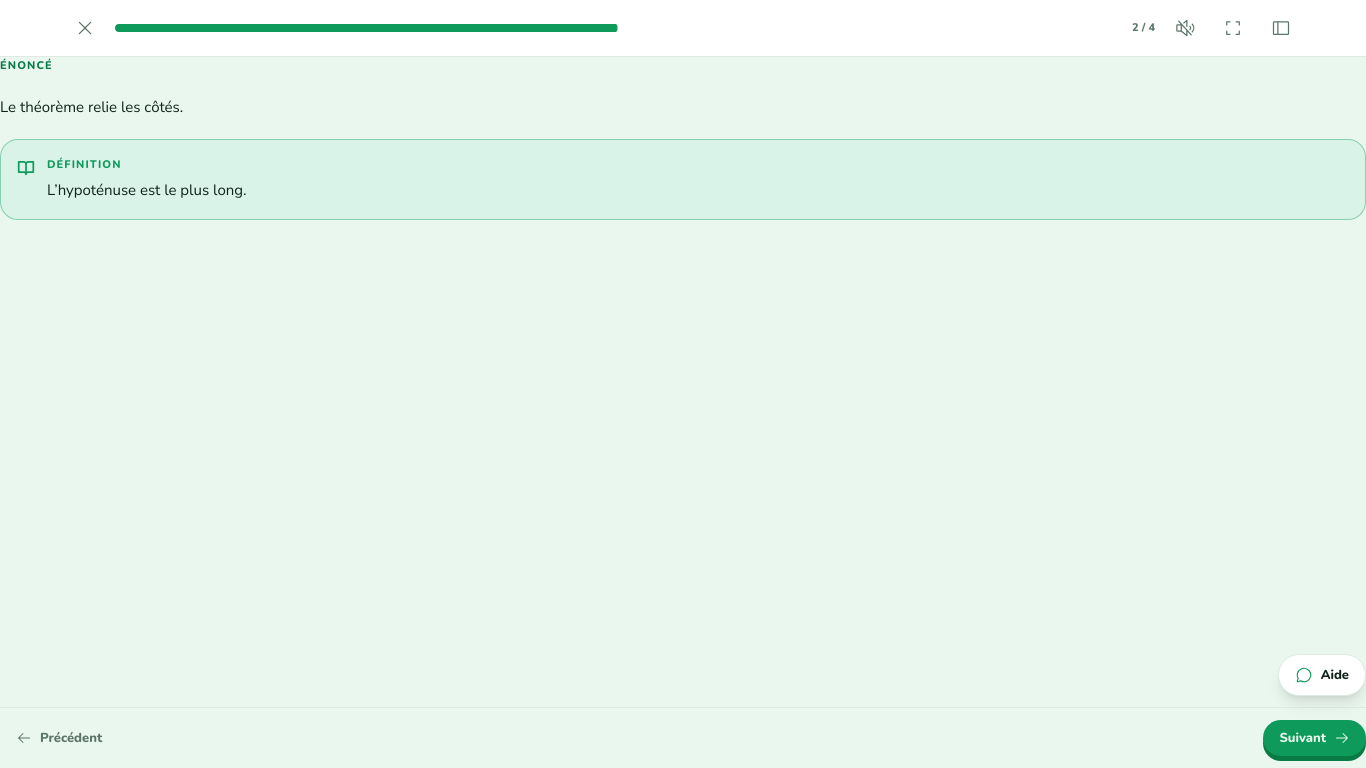
Scenario: interactive mode — help drawer focus (#250) › gives focus back to the button that opened it
Click the button "Aide". click: (1322, 675)
box: x1=1278 y1=654 x2=1365 y2=696
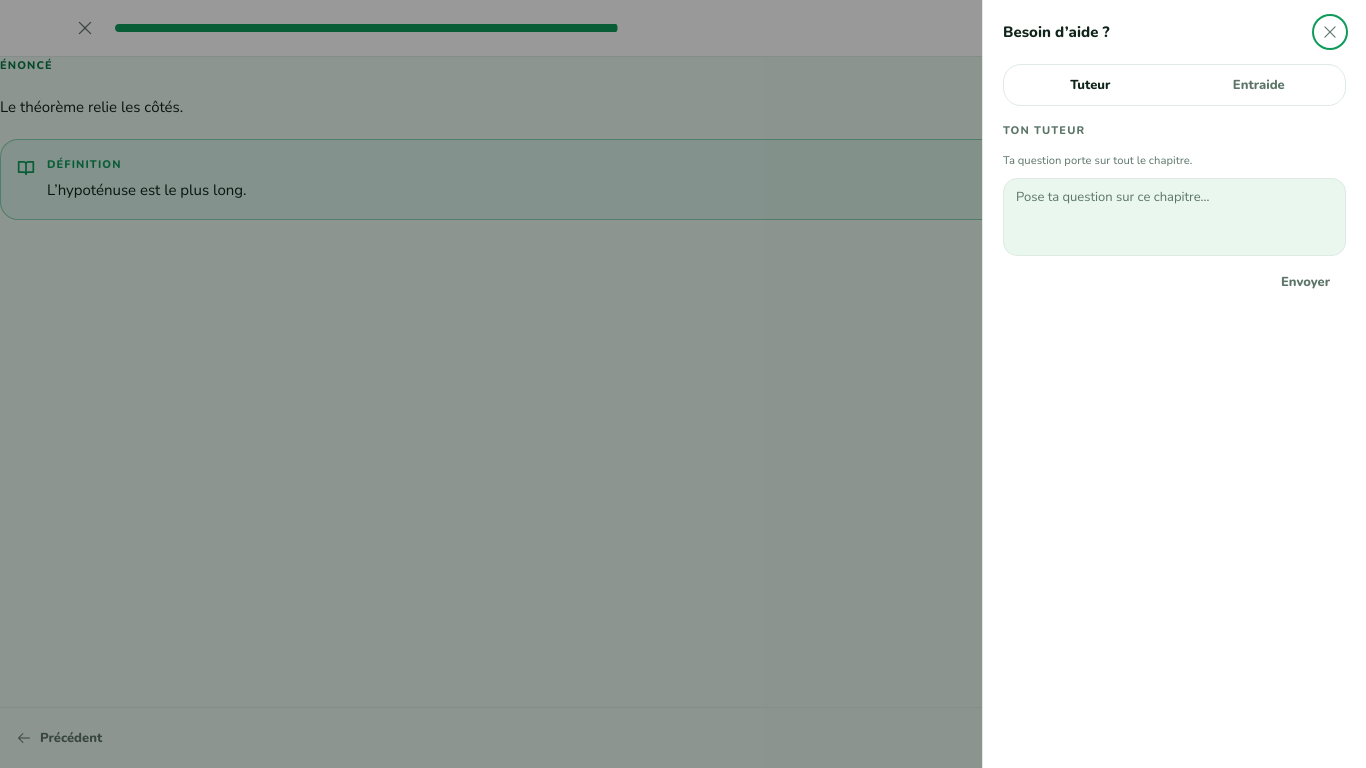
Check: the dialog is shown, box x1=982 y1=0 x2=1365 y2=767
Click the button named "Fermer". click: (1330, 32)
box: x1=1314 y1=16 x2=1346 y2=48
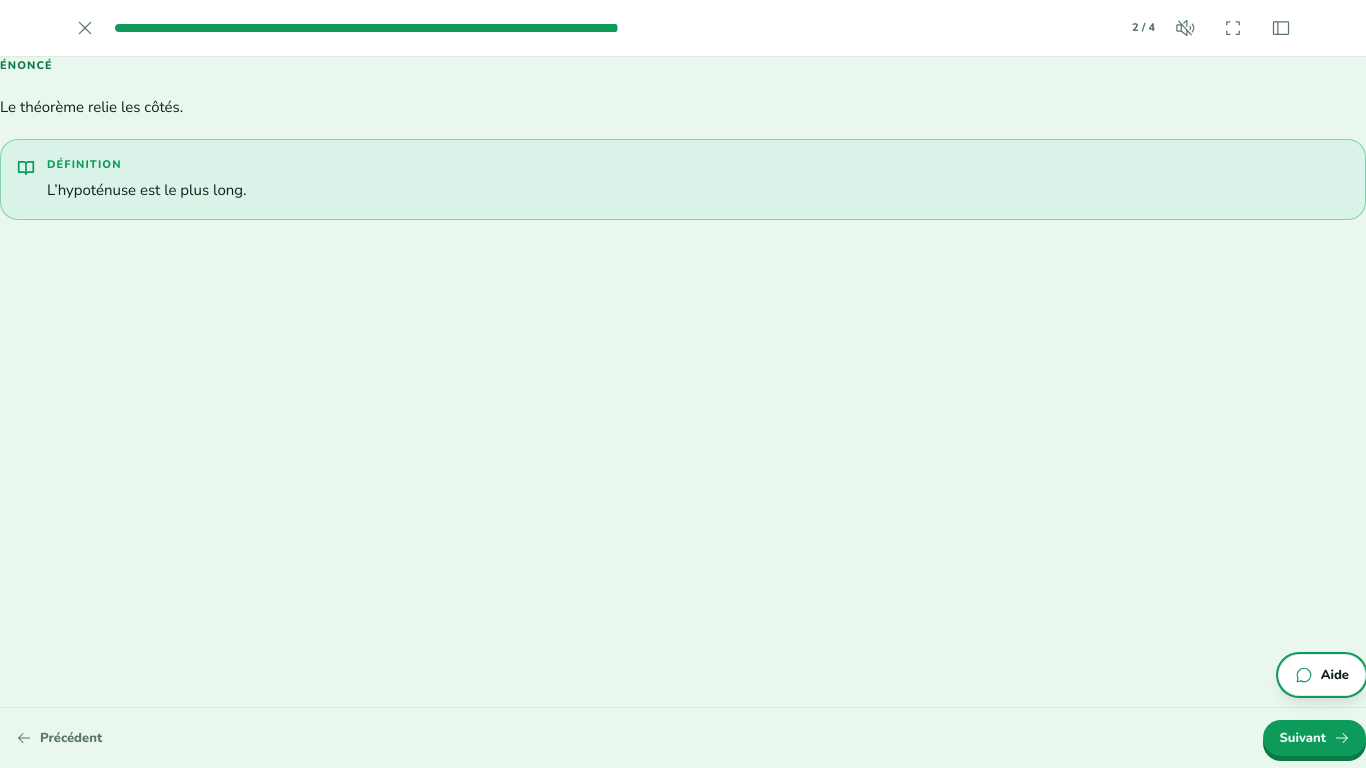
Check: the dialog is gone
